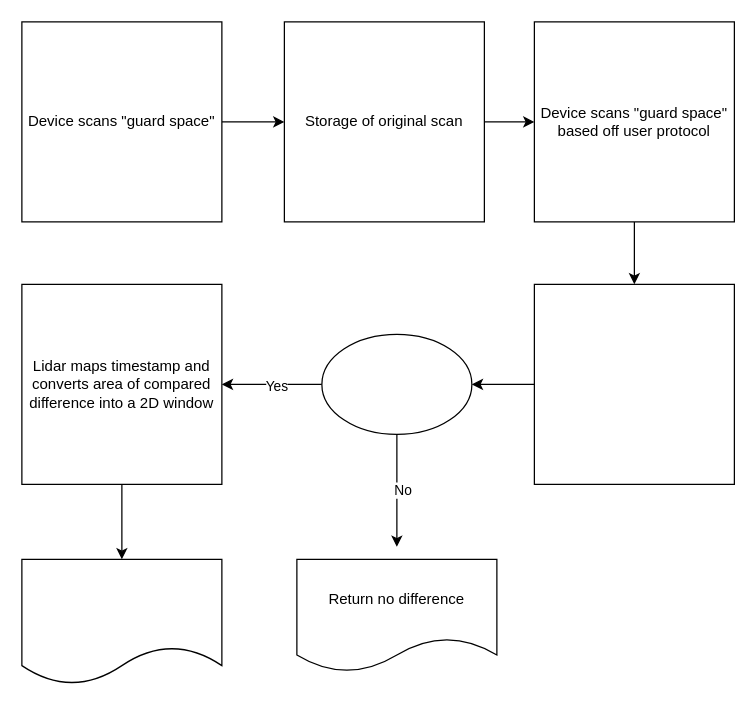
This 756x706 diagram has some shape labels left out. Each missing label, with the centre of its shape:
Based on video scan with the 2D window YOLO model detects objects disturbed: pixel 121 621
Difference?: pixel 396 383
Lidar comparison between scans: pixel 633 383
